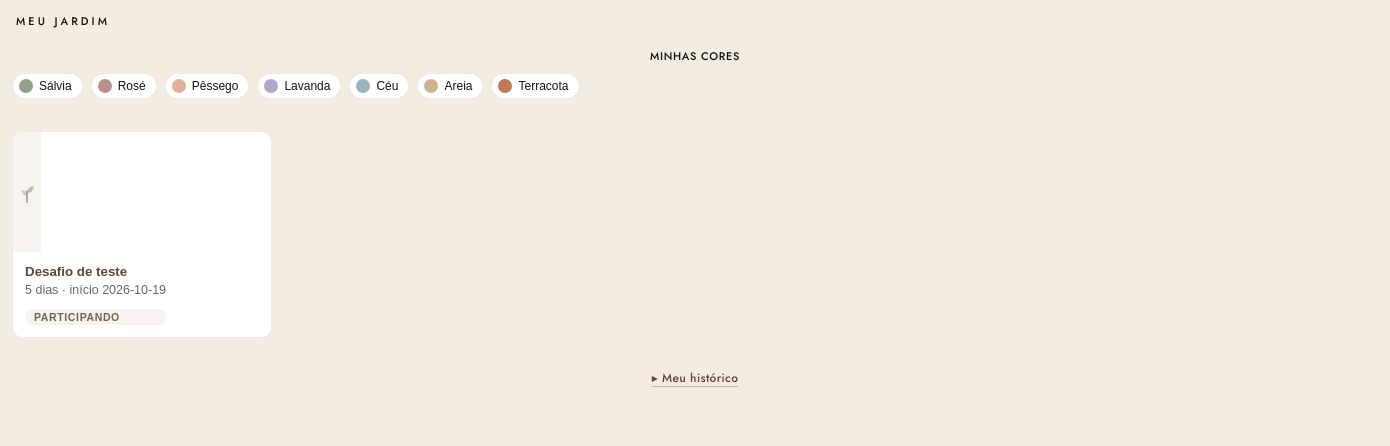
Test: GardenMemberView — Item 3: compartilhamento sem duplicata › oferece "Compartilhar no feed" quando a conclusão ainda não foi compartilhada
This screenshot has width=1390, height=446.
Click the text "Desafio de teste".
click(76, 272)  # box [25,264,127,279]
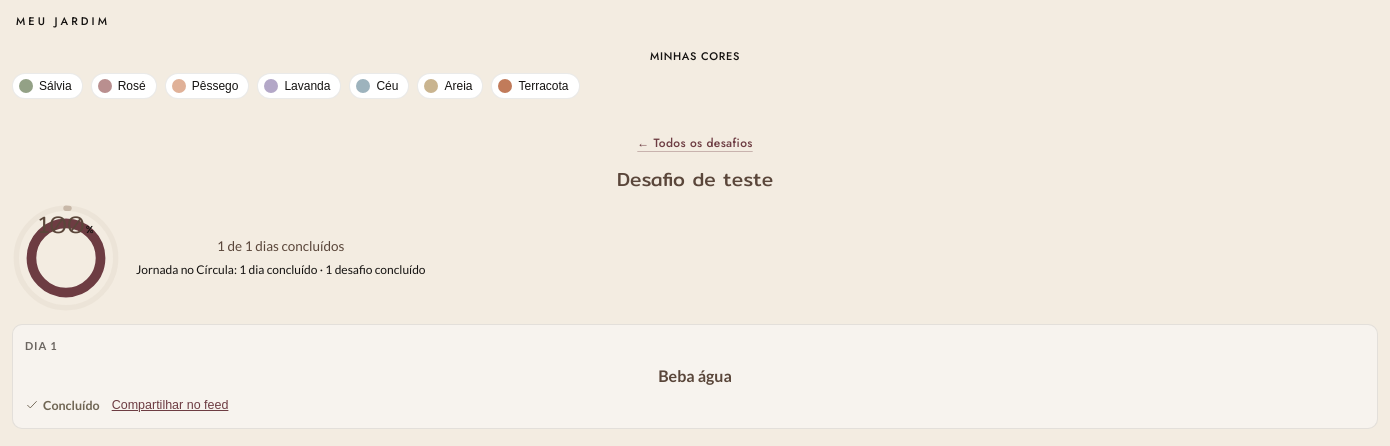
Now the button "Compartilhar no feed" is shown, box [112,398,228,412]
